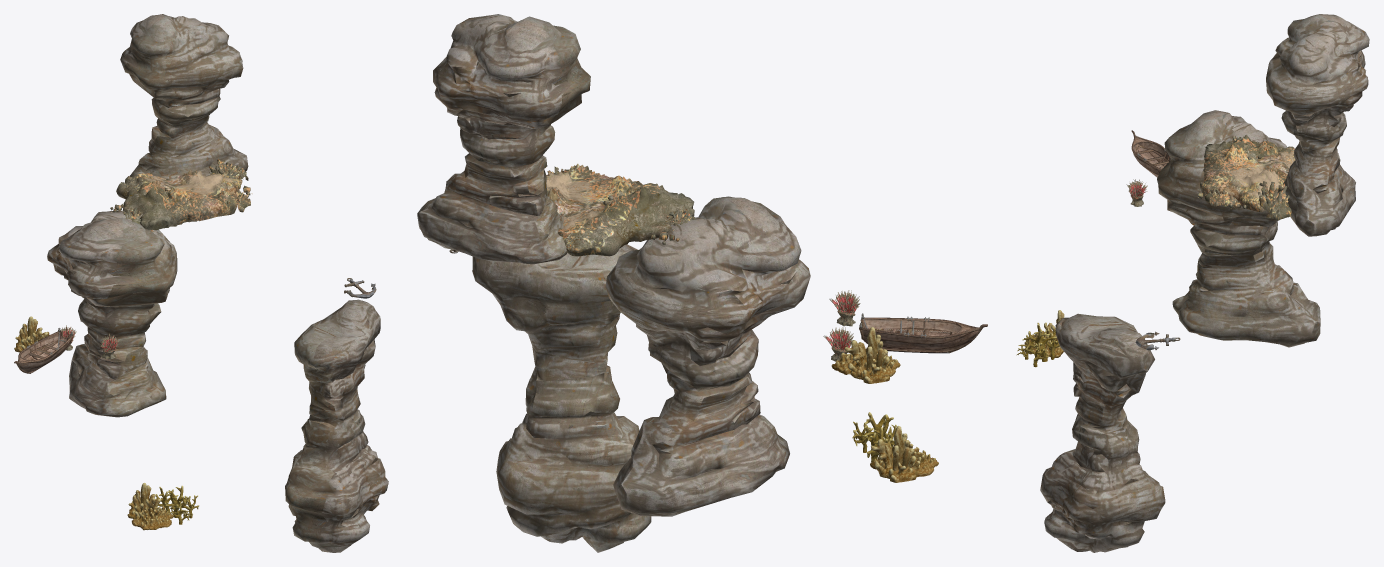
Rendered from UnderwaterEnvironment.fbx.
3 renders of one model, left to right at view 1: azimuth 30°, elevation 25°; view 2: azimuth 150°, elevation 25°; view 3: azimuth 270°, elevation 25°, orthographic. The views are drawn at different scales.
Visible parts, largest first — view 1: pilar_rock006, pilar_rock004, pilar_rock005, floor_modul_006, boat-smal001, paluszki005, paluszki006, paluszki, UnderwaterEnvironment; view 2: pilar_rock006, pilar_rock004, pilar_rock005, floor_modul_006, boat-smal001, paluszki006, paluszki, UnderwaterEnvironment, paluszki004; view 3: pilar_rock004, pilar_rock006, pilar_rock005, floor_modul_006, boat-smal001.
Boxes of the visible parts, x1,y1,x2,y2 form: pilar_rock006: [47, 210, 177, 417]; pilar_rock004: [285, 299, 388, 552]; pilar_rock005: [120, 14, 248, 179]; floor_modul_006: [110, 159, 252, 230]; boat-smal001: [14, 328, 73, 373]; paluszki005: [131, 505, 173, 530]; paluszki006: [127, 483, 161, 518]; paluszki: [14, 316, 47, 352]; UnderwaterEnvironment: [60, 325, 119, 359]; pilar_rock006: [605, 196, 810, 516]; pilar_rock004: [472, 244, 651, 552]; pilar_rock005: [417, 14, 590, 264]; floor_modul_006: [546, 163, 695, 256]; boat-smal001: [859, 313, 987, 353]; paluszki006: [871, 426, 920, 482]; paluszki: [844, 327, 893, 383]; UnderwaterEnvironment: [823, 290, 860, 361]; paluszki004: [831, 351, 900, 377]; pilar_rock004: [1040, 313, 1165, 552]; pilar_rock006: [1157, 110, 1320, 347]; pilar_rock005: [1266, 14, 1369, 236]; floor_modul_006: [1197, 134, 1294, 220]; boat-smal001: [1131, 130, 1170, 177].
Size of what is drawn, in the model's own units: 44.93 by 54.03 by 34.25.
